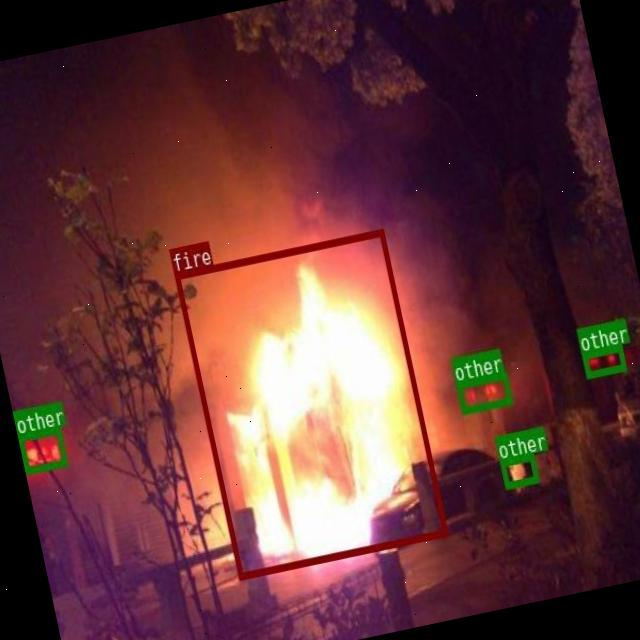fire: (173, 228, 446, 578)
